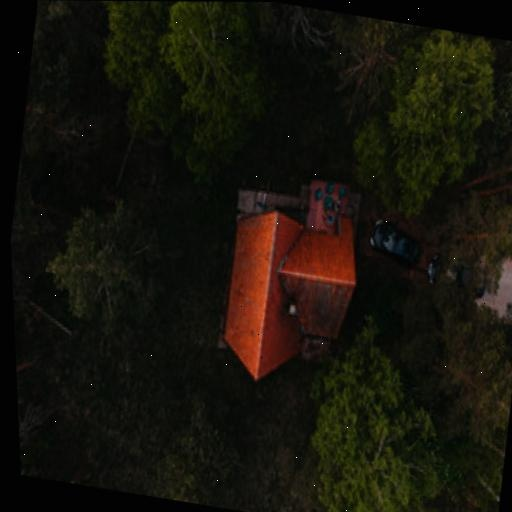tree-top: (289, 340, 474, 512), (383, 23, 510, 180), (48, 197, 169, 336), (174, 1, 281, 158), (424, 315, 512, 445), (144, 400, 244, 509), (74, 1, 176, 92), (334, 19, 408, 110), (151, 1, 208, 83), (342, 108, 394, 188), (486, 120, 512, 220), (454, 473, 503, 512), (184, 1, 237, 19)
